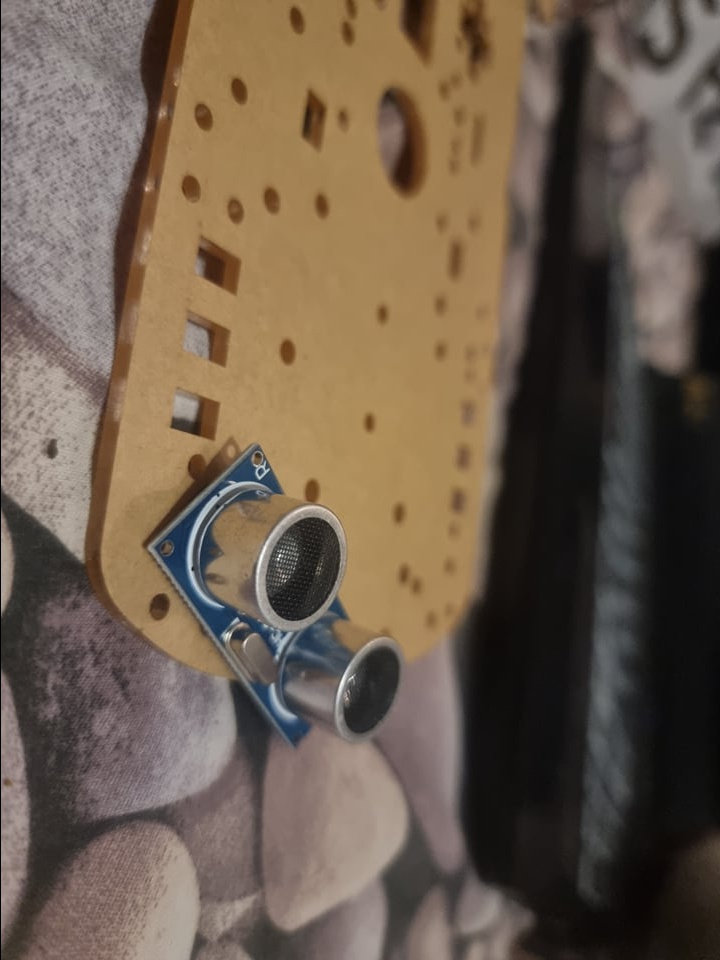SENSOR: (141, 442, 401, 751)
